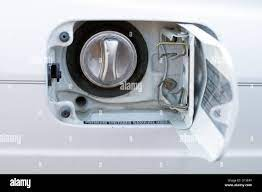open: (44, 18, 208, 133)
